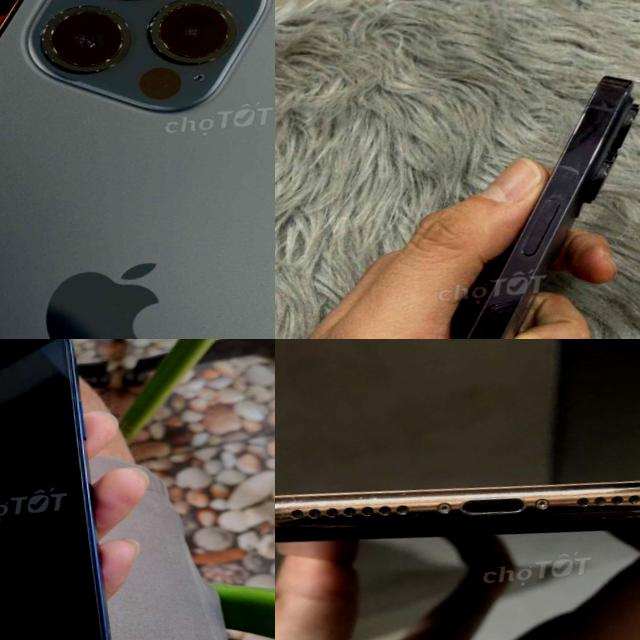gen_11: (275, 446, 640, 578)
gen_12_13: (0, 0, 275, 339), (0, 339, 113, 640)
gen_14: (451, 75, 638, 339)
